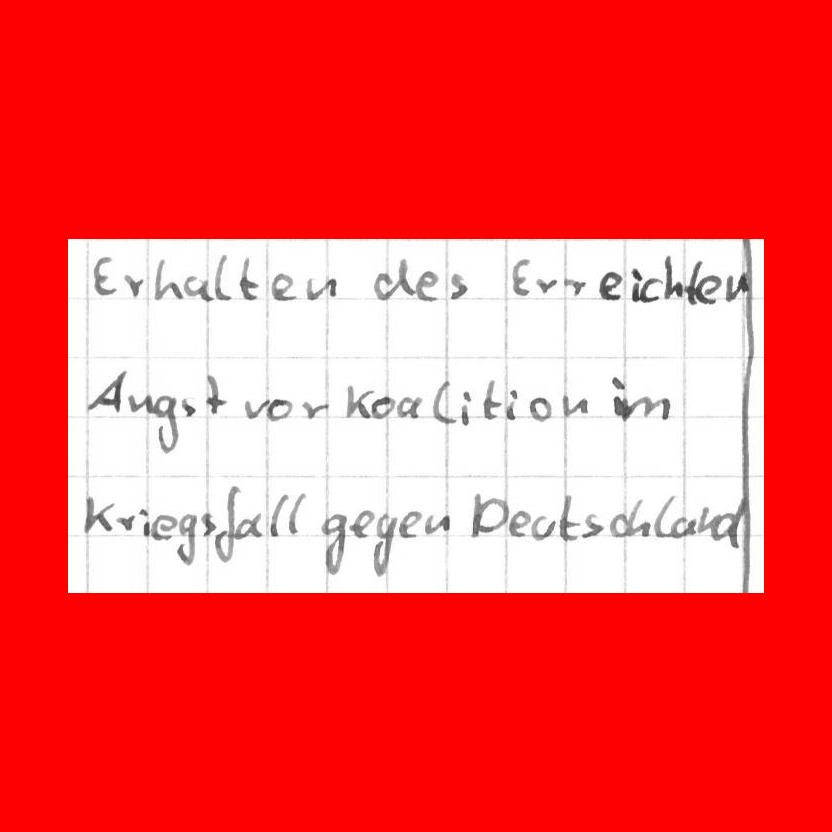Char: (214, 484, 240, 564), (372, 254, 416, 301), (317, 510, 348, 576), (707, 496, 745, 549), (471, 491, 511, 540), (370, 509, 397, 580), (87, 367, 127, 414), (619, 393, 677, 423), (153, 391, 178, 456), (79, 491, 116, 533), (151, 257, 183, 300), (89, 253, 120, 295), (203, 370, 230, 418), (430, 378, 457, 425), (557, 493, 582, 543), (175, 512, 198, 565), (624, 496, 651, 538), (238, 254, 261, 302), (652, 493, 676, 538), (344, 383, 372, 421), (663, 253, 684, 302), (286, 488, 307, 535), (182, 272, 213, 303), (213, 252, 233, 300), (413, 269, 442, 302), (347, 506, 376, 539), (233, 511, 264, 541), (304, 273, 338, 300), (693, 272, 720, 306), (269, 492, 288, 539), (511, 255, 532, 297), (149, 512, 178, 542), (265, 394, 296, 422), (528, 511, 556, 541), (724, 271, 749, 304), (483, 378, 502, 421), (299, 397, 333, 421), (396, 393, 427, 419), (683, 259, 700, 305), (271, 270, 296, 301), (421, 511, 452, 536), (607, 375, 625, 418), (598, 269, 622, 301), (639, 274, 664, 304), (560, 393, 590, 418), (397, 509, 421, 539), (370, 394, 397, 420), (507, 509, 531, 538), (504, 388, 524, 422), (670, 513, 696, 539), (528, 397, 555, 422), (446, 271, 469, 300), (128, 392, 154, 417), (579, 512, 604, 538), (122, 271, 146, 298), (698, 505, 718, 537), (608, 510, 630, 538), (562, 275, 588, 298), (535, 275, 559, 298), (628, 266, 643, 302), (245, 398, 267, 421), (112, 512, 136, 533), (460, 389, 473, 426), (200, 510, 217, 538), (180, 394, 196, 419), (138, 507, 150, 538)
